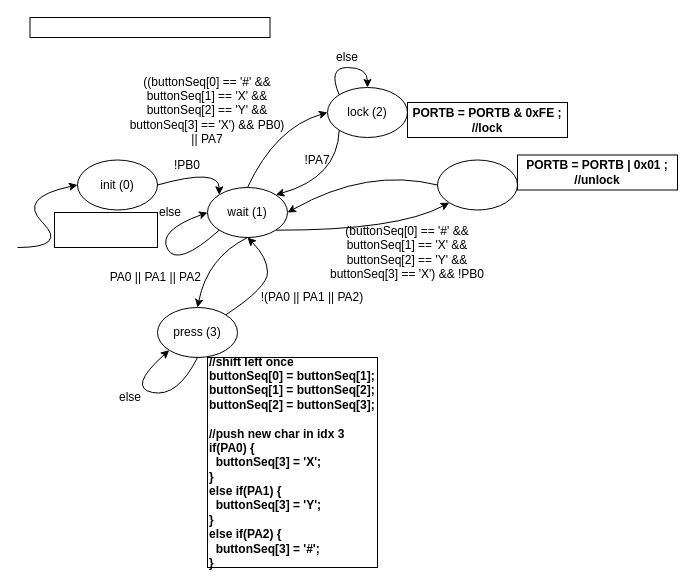
The diagram is 695 pixels wide and 588 high, and some of its shapes have lost their labels. Here are the shapes that lost their labels. From the top down, the centre of each, then its label:
At point 149,27: "*always write the current state to PORTC".
At point 477,184: "unlock (4)".
At point 106,230: "PORTB = 0x00; //initialize".
